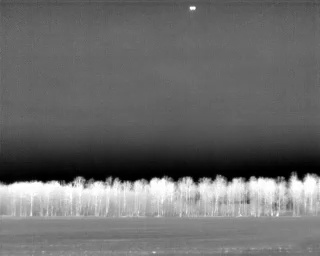DRONE: (186, 2, 199, 15)
